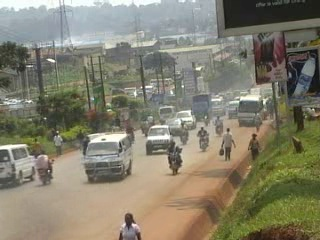Car: (145, 125, 168, 152), (175, 107, 195, 129), (168, 118, 182, 134)
Motorcycle: (170, 152, 179, 175), (37, 167, 48, 185), (199, 136, 207, 152), (181, 132, 187, 145), (203, 117, 210, 127), (216, 127, 222, 137)
